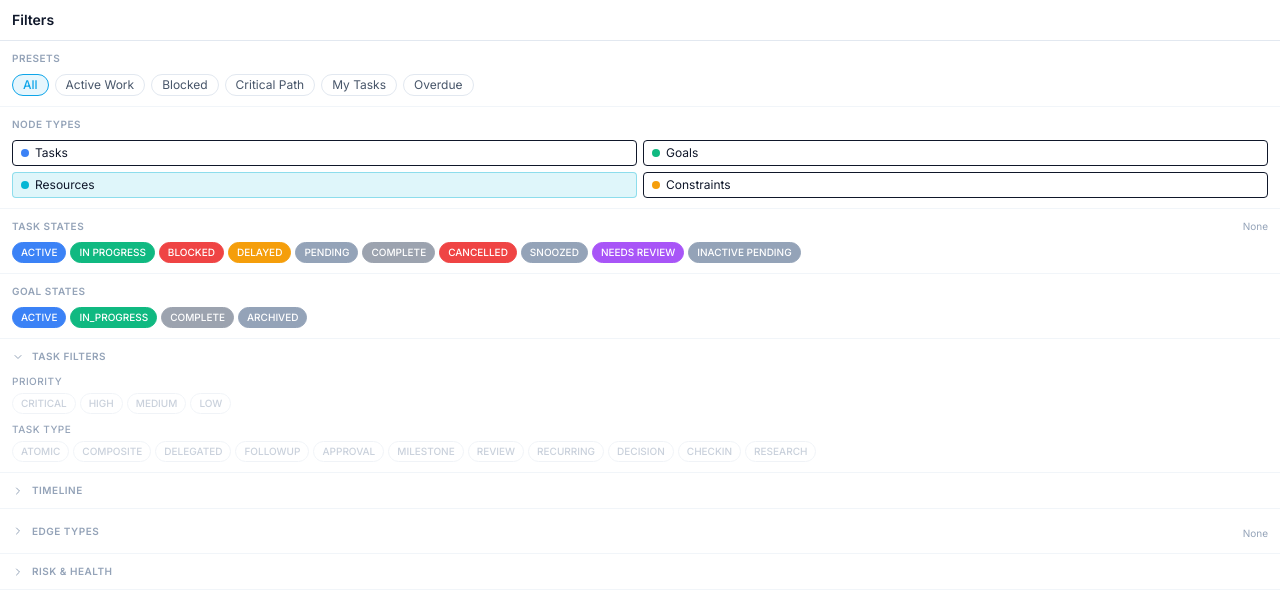
GraphFilterPanel › node type toggle button toggles tasks visibility
Click the button with test id "node-type-showTasks": (51, 152) x1=12 y1=140 x2=637 y2=166
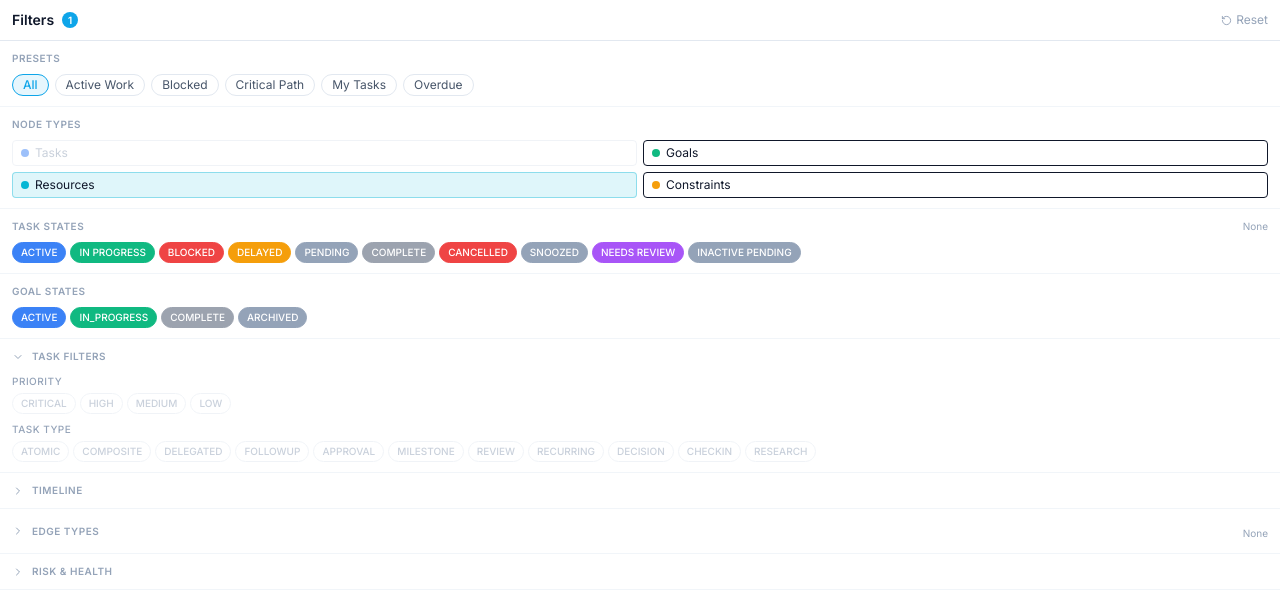
Check: the text "1" is shown, box x1=62 y1=12 x2=78 y2=28
